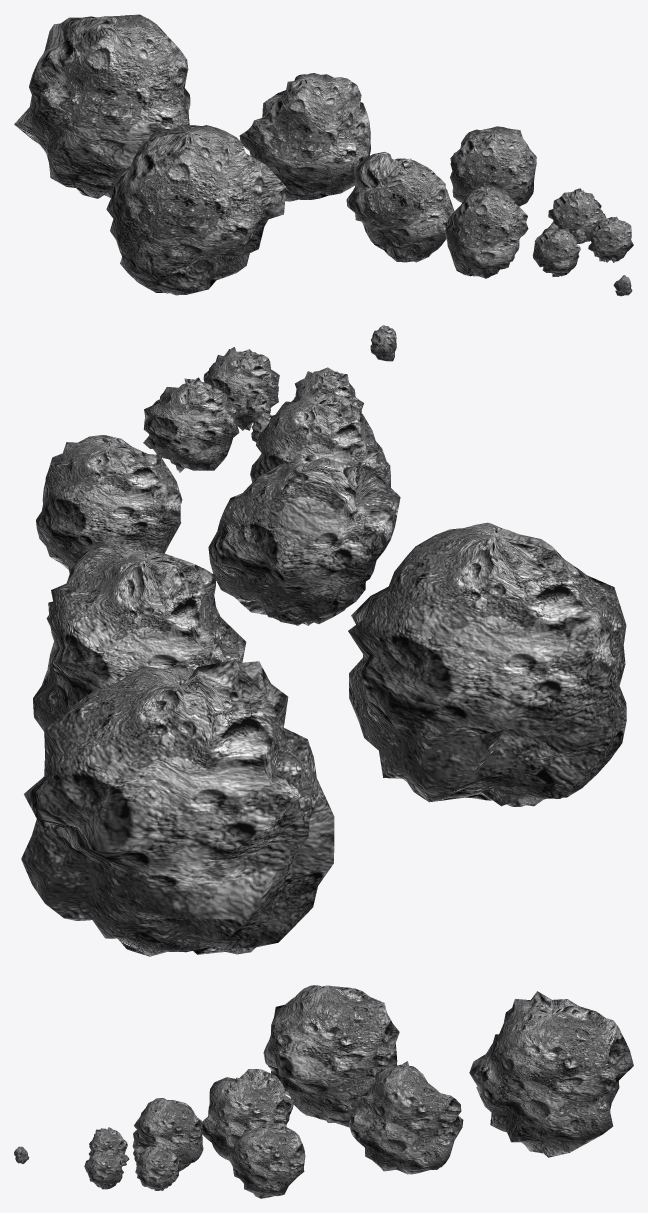
The model's file is Regular Asteroids.fbx.
The picture shows the model from 3 angles, top to bottom: view 1: azimuth 30°, elevation 25°; view 2: azimuth 150°, elevation 25°; view 3: azimuth 270°, elevation 25°; orthographic projection. The views are drawn at different scales.
Visible parts, largest first — view 1: pSphere10, pSphere11, pSphere9, pSphere8, pSphere6, pSphere7, pSphere5, pSphere3, pSphere4; view 2: pSphere11, pSphere10, pSphere8, pSphere9, pSphere7, pSphere6, pSphere5, pSphere4, pSphere3; view 3: pSphere11, pSphere10, pSphere9, pSphere8, pSphere7, pSphere6, pSphere5, pSphere4, pSphere3.
Part boxes in pixels (bbox=[...]): pSphere10: bbox=[106, 125, 285, 295]; pSphere11: bbox=[14, 14, 190, 198]; pSphere9: bbox=[239, 73, 370, 201]; pSphere8: bbox=[346, 152, 454, 262]; pSphere6: bbox=[445, 184, 528, 278]; pSphere7: bbox=[450, 126, 536, 206]; pSphere5: bbox=[548, 188, 606, 243]; pSphere3: bbox=[532, 228, 580, 276]; pSphere4: bbox=[588, 216, 633, 262]; pSphere11: bbox=[21, 660, 334, 956]; pSphere10: bbox=[348, 522, 626, 806]; pSphere8: bbox=[208, 452, 400, 625]; pSphere9: bbox=[33, 543, 246, 731]; pSphere7: bbox=[36, 435, 182, 573]; pSphere6: bbox=[250, 392, 390, 487]; pSphere5: bbox=[143, 377, 239, 472]; pSphere4: bbox=[203, 347, 279, 430]; pSphere3: bbox=[291, 367, 363, 412]; pSphere11: bbox=[469, 991, 633, 1157]; pSphere10: bbox=[263, 985, 399, 1127]; pSphere9: bbox=[348, 1061, 463, 1174]; pSphere8: bbox=[201, 1069, 294, 1164]; pSphere7: bbox=[230, 1124, 305, 1198]; pSphere6: bbox=[132, 1098, 203, 1171]; pSphere5: bbox=[135, 1143, 180, 1190]; pSphere4: bbox=[84, 1150, 123, 1189]; pSphere3: bbox=[89, 1127, 127, 1156].
Bounding box in the file's own units: 248 × 108 × 418.
Materials: 1 (1 with a texture image).
